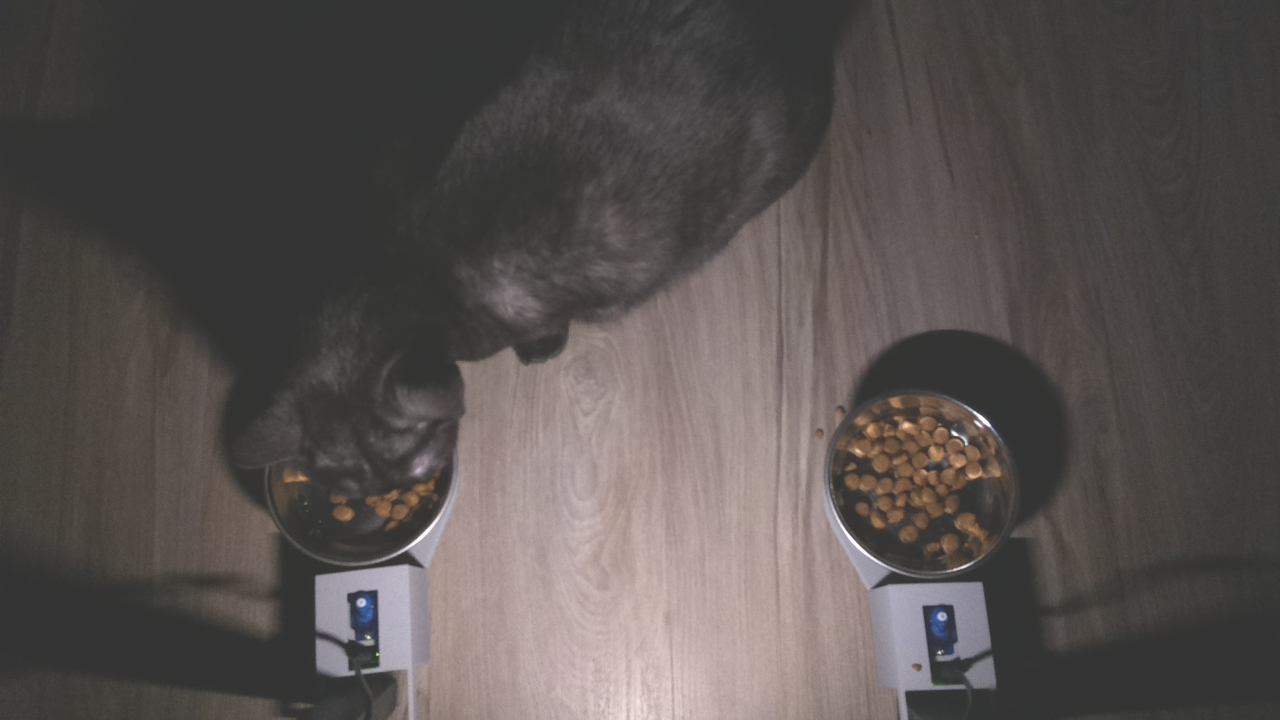open_bowl: (820, 387, 1021, 583)
saki_eating: (222, 293, 490, 573)
